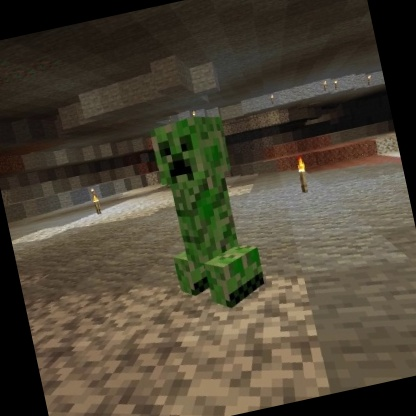creeper: (141, 106, 272, 322)
